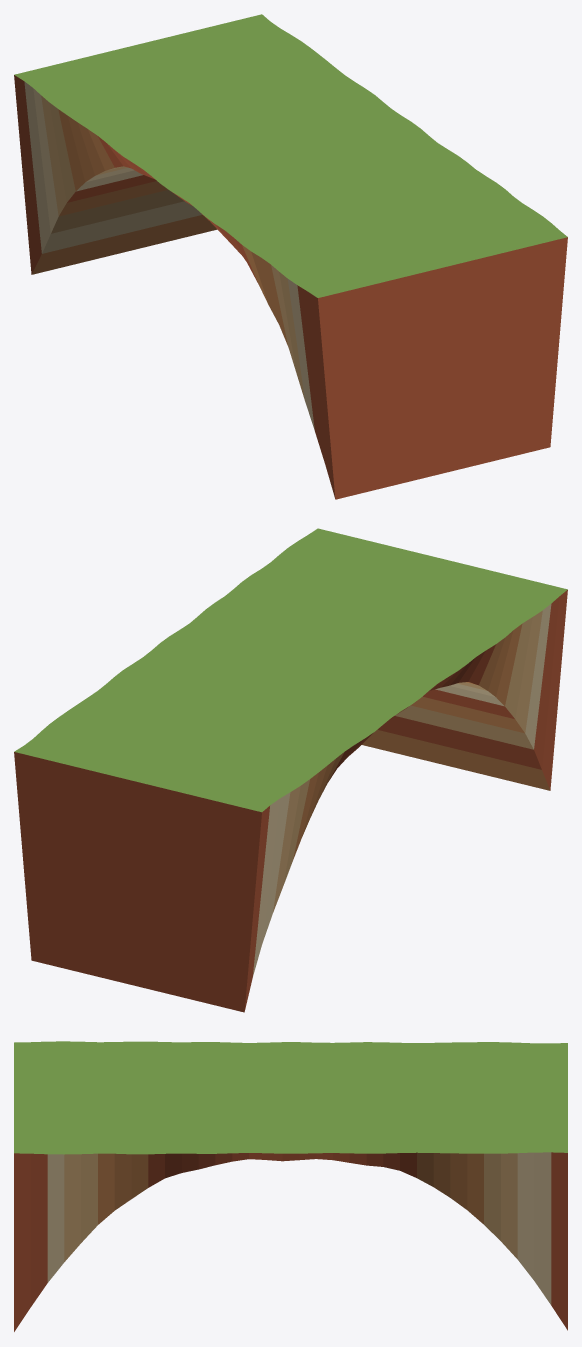
The model's file is ponte_00d0.glb.
3 renders of one model, top to bottom at view 1: azimuth 30°, elevation 25°; view 2: azimuth 150°, elevation 25°; view 3: azimuth 270°, elevation 25°, orthographic. The views are drawn at different scales.
Visible parts, largest first — view 1: ponte_00d0; view 2: ponte_00d0; view 3: ponte_00d0.
Part boxes in pixels (x1=…): ponte_00d0: x1=14, y1=14, x2=567, y2=499; ponte_00d0: x1=14, y1=528, x2=567, y2=1012; ponte_00d0: x1=14, y1=1041, x2=567, y2=1331.
Bounding box in the file's own units: 65.21 × 50.26 × 135.
